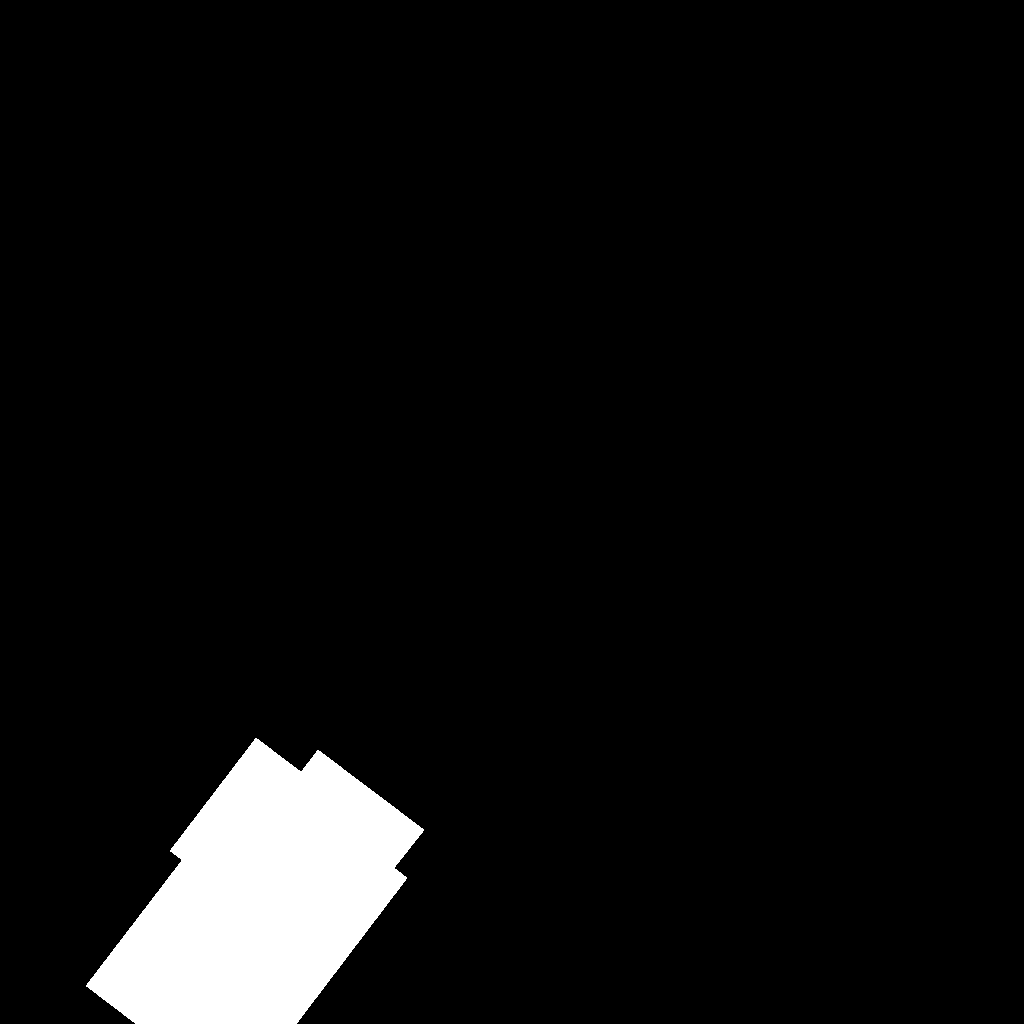building: (86, 738, 425, 1024)
